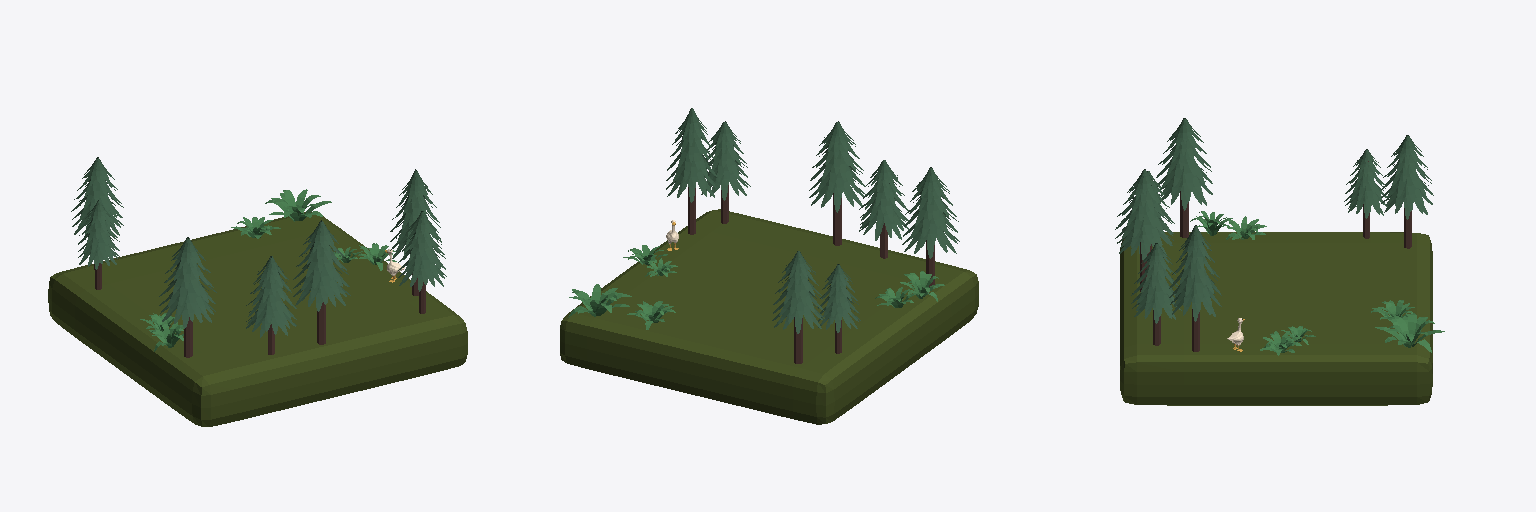
The picture shows the model from 3 angles: view 1: azimuth 30°, elevation 25°; view 2: azimuth 150°, elevation 25°; view 3: azimuth 270°, elevation 25°; orthographic projection.
Parts seen in each view (by area): view 1: Cube.003, Plane, Plane.003, Plane.002, Plane.001, Plane.004, Plane.005, Plane.010, Plane.007; view 2: Cube.003, Plane, Plane.003, Plane.010, Plane.005, Plane.002, Plane.001, Plane.004, Plane.007, Plane.012, Plane.006; view 3: Cube.003, Plane.003, Plane.010, Plane, Plane.005, Plane.001, Plane.004, Plane.007.
Part boxes in pixels (bbox=[...]): Cube.003: bbox=[48, 212, 467, 426]; Plane: bbox=[293, 220, 350, 344]; Plane.003: bbox=[159, 237, 216, 357]; Plane.002: bbox=[246, 256, 296, 354]; Plane.001: bbox=[398, 211, 446, 313]; Plane.004: bbox=[78, 200, 119, 289]; Plane.005: bbox=[71, 157, 123, 269]; Plane.010: bbox=[390, 169, 441, 295]; Plane.007: bbox=[265, 189, 331, 221]; Cube.003: bbox=[560, 209, 978, 424]; Plane: bbox=[809, 121, 865, 245]; Plane.003: bbox=[902, 167, 959, 286]; Plane.010: bbox=[666, 108, 719, 234]; Plane.005: bbox=[772, 251, 824, 363]; Plane.002: bbox=[859, 160, 908, 258]; Plane.001: bbox=[699, 121, 750, 223]; Plane.004: bbox=[818, 264, 860, 353]; Plane.007: bbox=[568, 284, 631, 317]; Plane.012: bbox=[900, 271, 944, 301]; Plane.006: bbox=[627, 301, 675, 329]; Cube.003: bbox=[1120, 232, 1432, 405]; Plane.003: bbox=[1156, 118, 1212, 237]; Plane.010: bbox=[1169, 225, 1221, 351]; Plane: bbox=[1115, 169, 1172, 291]; Plane.005: bbox=[1381, 135, 1433, 248]; Plane.001: bbox=[1131, 243, 1181, 345]; Plane.004: bbox=[1344, 149, 1387, 238]; Plane.007: bbox=[1375, 313, 1444, 352].
Size of the model in its own units: 27.87 by 16.64 by 28.18.
6 materials, 1 textured.